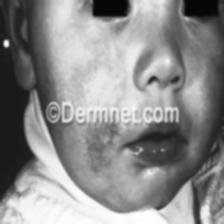Non-Cancerous Skin Condition: (72, 34, 132, 98), (80, 127, 130, 192)
